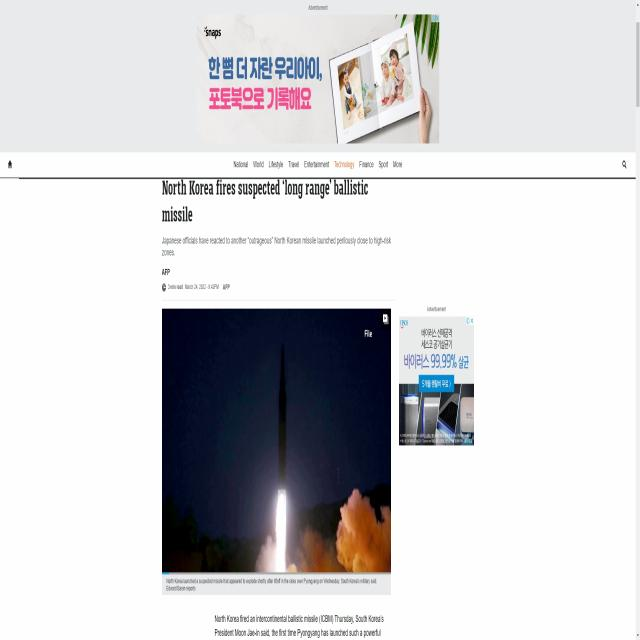search: (614, 156, 633, 172)
tab-bar: (231, 154, 403, 172)
